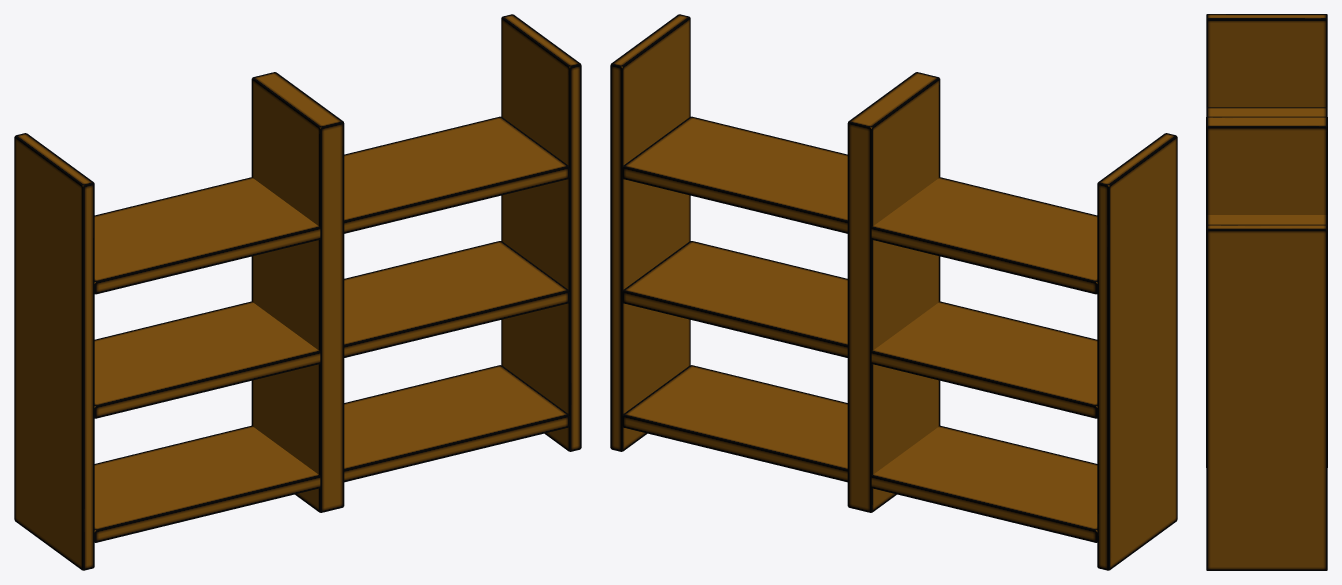
File: rack.fbx
3 renders of one model, left to right at view 1: azimuth 30°, elevation 25°; view 2: azimuth 150°, elevation 25°; view 3: azimuth 270°, elevation 25°, orthographic. The views are drawn at different scales.
Parts seen in each view (by area): view 1: cube_3, cube_2, cube_1, cube, cube_4, cube_5; view 2: cube_3, cube_2, cube_1, cube, cube_4, cube_5; view 3: cube_5, cube_4, cube_3, cube_2.
Boxes of the visible parts, x1=… form: cube_3: x1=14, y1=133, x2=94, y2=570; cube_2: x1=94, y1=116, x2=569, y2=294; cube_1: x1=94, y1=241, x2=569, y2=418; cube: x1=94, y1=365, x2=569, y2=542; cube_4: x1=251, y1=72, x2=344, y2=512; cube_5: x1=501, y1=14, x2=581, y2=451; cube_3: x1=1097, y1=133, x2=1177, y2=570; cube_2: x1=622, y1=116, x2=1097, y2=294; cube_1: x1=622, y1=241, x2=1097, y2=418; cube: x1=622, y1=365, x2=1097, y2=542; cube_4: x1=847, y1=72, x2=940, y2=512; cube_5: x1=610, y1=14, x2=690, y2=451; cube_5: x1=1206, y1=224, x2=1327, y2=570; cube_4: x1=1206, y1=116, x2=1327, y2=467; cube_3: x1=1206, y1=14, x2=1327, y2=107; cube_2: x1=1206, y1=107, x2=1327, y2=224.
Size of the model in its own units: 262 by 194 by 62.62.
Materials: 1 (1 with a texture image).
